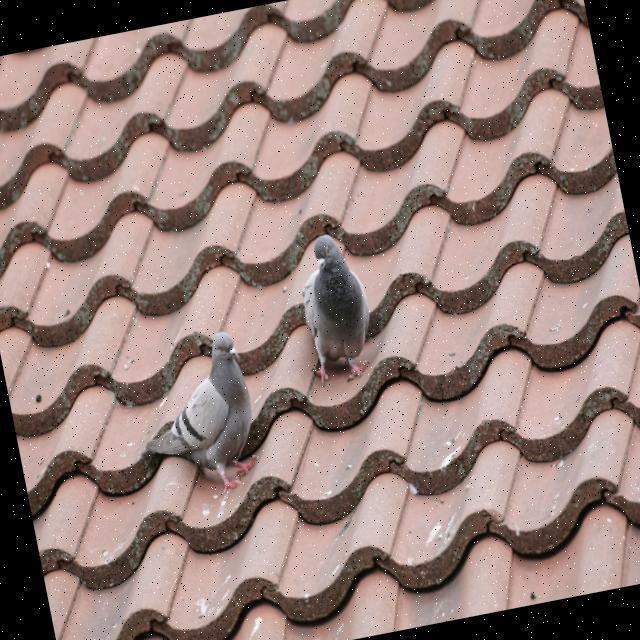bird: (124, 328, 270, 510), (288, 228, 384, 390)
